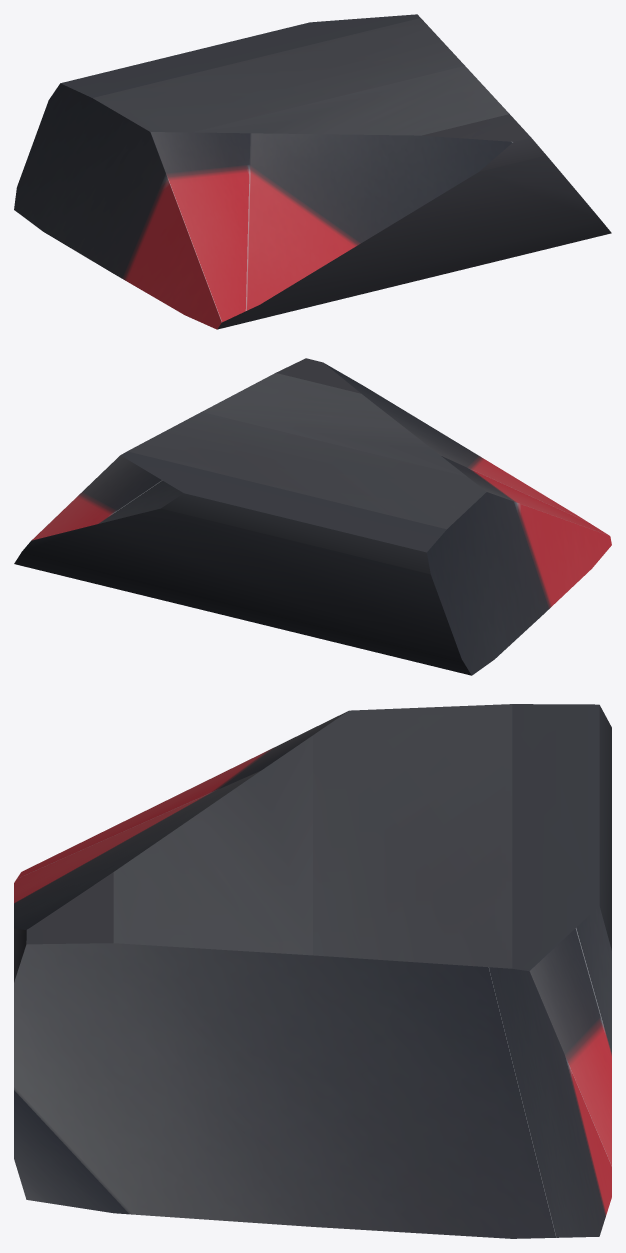
Rendered from torii_broken_024.obj.
3 views of the same model, one above another, from view 1: azimuth 30°, elevation 25°; view 2: azimuth 150°, elevation 25°; view 3: azimuth 270°, elevation 25° (orthographic). The views are drawn at different scales.
Parts seen in each view (by area): view 1: 鳥居.001_cell.024_鳥居.001_cell.042; view 2: 鳥居.001_cell.024_鳥居.001_cell.042; view 3: 鳥居.001_cell.024_鳥居.001_cell.042.
Boxes of the visible parts, x1=… form: 鳥居.001_cell.024_鳥居.001_cell.042: x1=14, y1=14, x2=611, y2=329; 鳥居.001_cell.024_鳥居.001_cell.042: x1=14, y1=358, x2=611, y2=675; 鳥居.001_cell.024_鳥居.001_cell.042: x1=14, y1=704, x2=611, y2=1238.
Bounding box in the file's own units: 0.6465 × 0.1609 × 0.431.
Materials: 1 (1 with a texture image).
